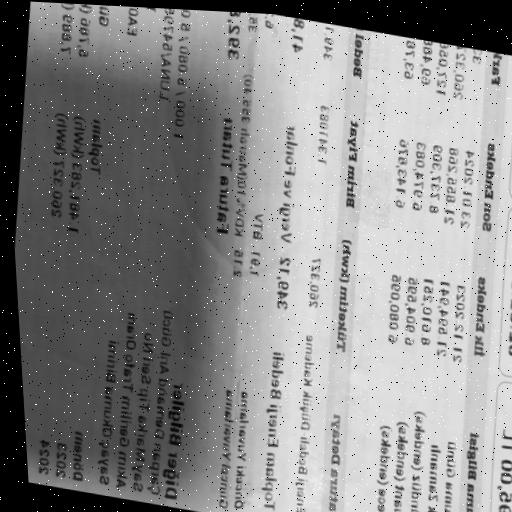electricity-bill: (14, 2, 512, 512)
